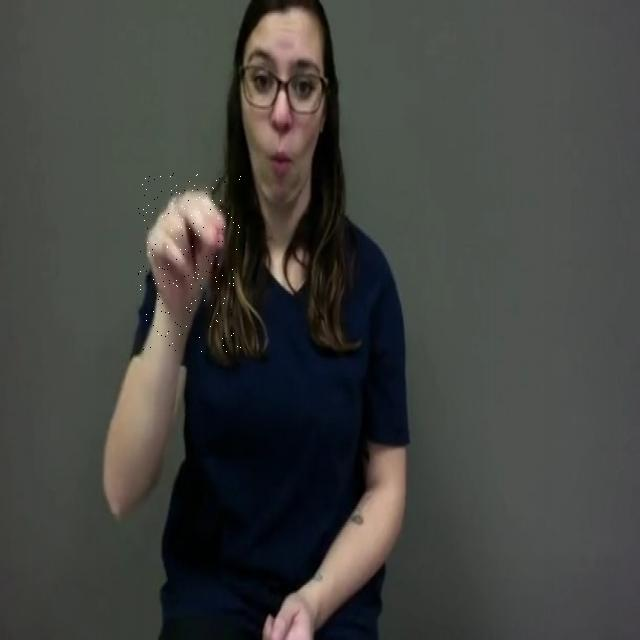no: (138, 172, 241, 352)
